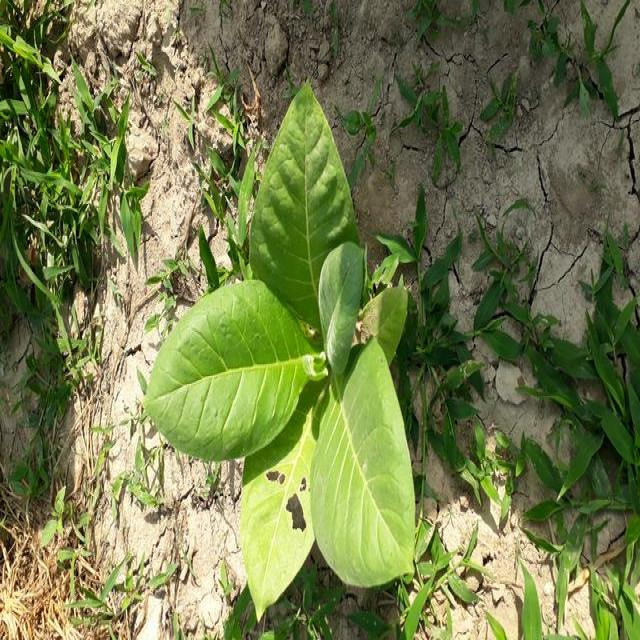crop: (140, 75, 434, 626)
